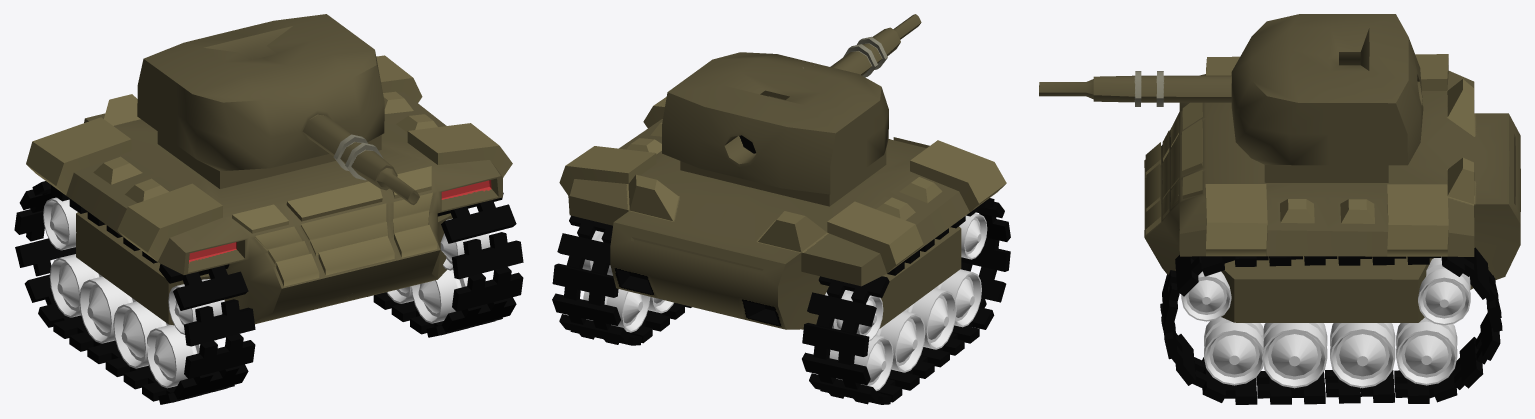
File: tankbroke.fbx
3 renders of one model, left to right at view 1: azimuth 30°, elevation 25°; view 2: azimuth 150°, elevation 25°; view 3: azimuth 270°, elevation 25°, orthographic. The views are drawn at different scales.
Visible parts, largest first — view 1: Cube.001, Cube.004, Cube.019, Cube.033, Cube.005, Cylinder.010, Cylinder.002, Cylinder.012, Cylinder.009, Cylinder.007, Cylinder.008, Cylinder.011 (+1 smaller); view 2: Cube.001, Cube.004, Cube.019, Cube.033, Cube.005, Cylinder.010, Cylinder.012, Cylinder.002, Cylinder.009, Cylinder.005, Cylinder.011, Cylinder.008; view 3: Cube.001, Cube.004, Cube.033, Cube.005, Cylinder.004, Cylinder.001, Cylinder.005, Cylinder.007, Cylinder.006, Cylinder.003.
Boxes of the visible parts, x1,y1,x2,y2 form: Cube.001: (26, 55, 512, 325); Cube.004: (137, 14, 384, 171); Cube.019: (14, 181, 255, 404); Cube.033: (367, 192, 523, 337); Cube.005: (302, 114, 419, 204); Cylinder.010: (79, 276, 136, 343); Cylinder.002: (146, 325, 218, 388); Cylinder.012: (113, 301, 170, 368); Cylinder.009: (49, 254, 102, 317); Cylinder.007: (411, 269, 468, 323); Cylinder.008: (43, 197, 77, 250); Cylinder.011: (168, 279, 224, 334); Cube.001: (559, 97, 1006, 329); Cube.004: (662, 52, 888, 194); Cube.019: (802, 198, 1010, 404); Cube.033: (552, 215, 691, 345); Cube.005: (830, 14, 921, 77); Cylinder.010: (876, 311, 925, 372); Cylinder.012: (904, 288, 956, 349); Cylinder.002: (935, 269, 981, 327); Cylinder.009: (829, 335, 893, 390); Cylinder.005: (583, 289, 650, 332); Cylinder.011: (959, 213, 987, 259); Cylinder.008: (825, 290, 883, 341); Cube.001: (1144, 54, 1520, 322); Cube.004: (1231, 14, 1423, 165); Cube.033: (1160, 247, 1502, 404); Cube.005: (1039, 71, 1231, 106); Cylinder.004: (1330, 323, 1395, 388); Cylinder.001: (1261, 323, 1327, 388); Cylinder.005: (1396, 317, 1457, 385); Cylinder.007: (1204, 317, 1263, 385); Cylinder.006: (1418, 257, 1470, 325); Cylinder.003: (1181, 271, 1231, 321).
Size of the model in its own units: 585 by 422 by 668.
